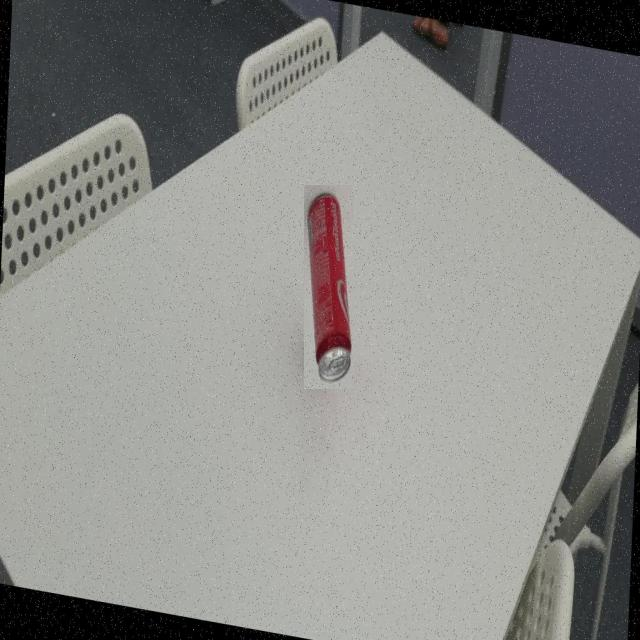coca-cola: (304, 185, 354, 389)
